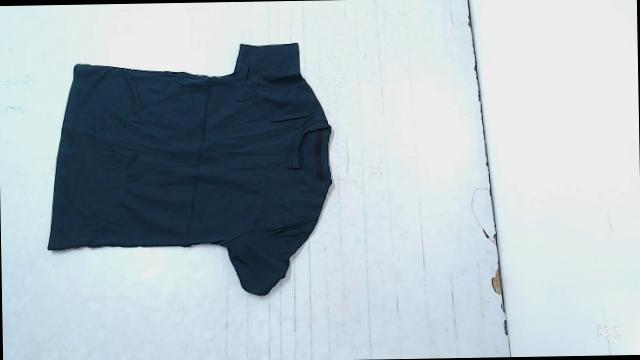new-garment: (48, 43, 331, 295)
